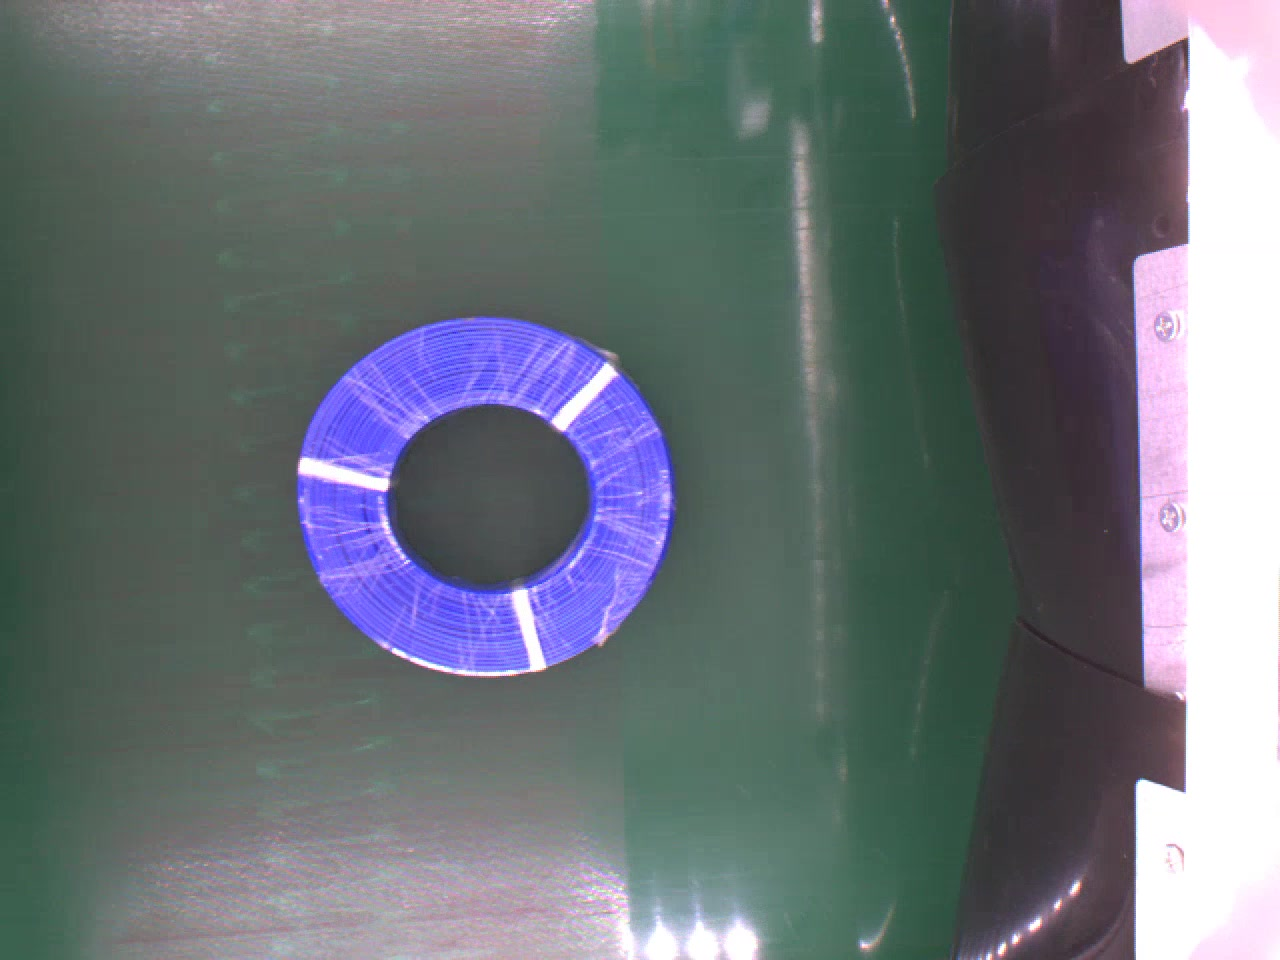blue: (296, 314, 675, 679)
